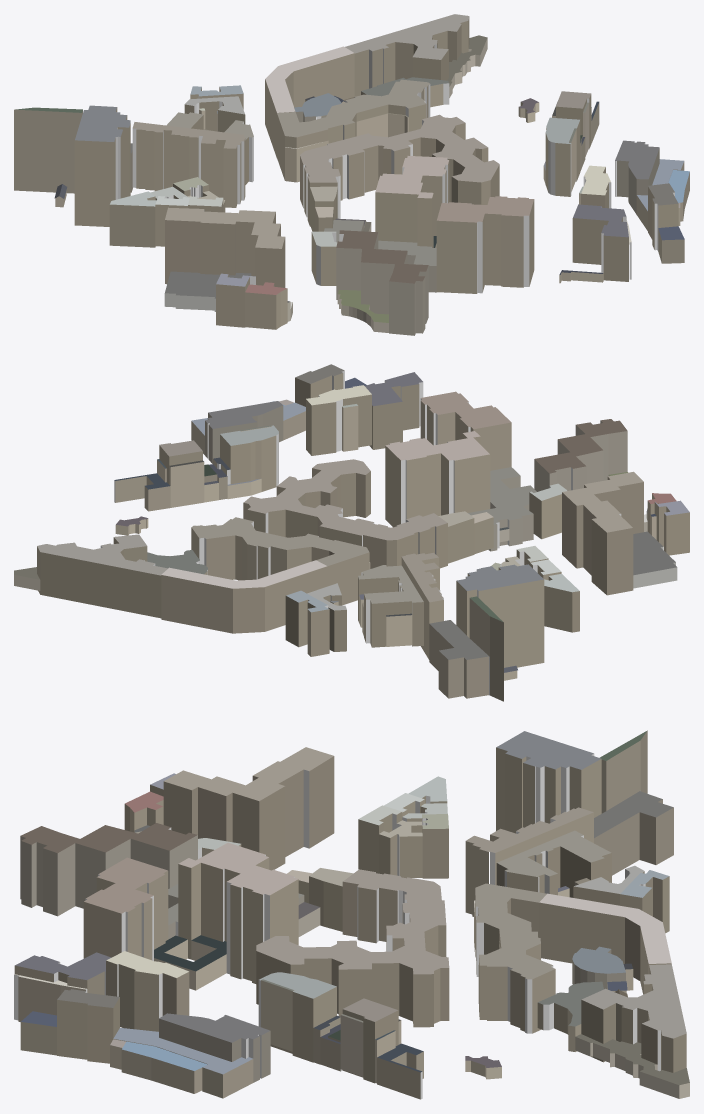
3 views of the same model, one above another, from view 1: azimuth 30°, elevation 25°; view 2: azimuth 150°, elevation 25°; view 3: azimuth 270°, elevation 25° (orthographic). The views are drawn at different scales.
Parts seen in each view (by area): view 1: tuile; view 2: tuile; view 3: tuile.
Part boxes in pixels (box(x1,y1,x2,y2)): tuile: box(14, 14, 689, 335); tuile: box(14, 364, 689, 701); tuile: box(14, 730, 689, 1099).
Size of the model in its own units: 285 by 45.61 by 272.
